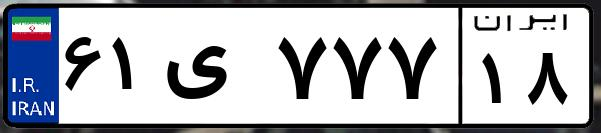1: (475, 38, 525, 113), (110, 28, 158, 98)
6: (57, 26, 110, 100)
7: (270, 28, 330, 110), (385, 28, 445, 110), (330, 28, 385, 110)
8: (525, 38, 570, 115)
ی: (158, 20, 270, 120)
